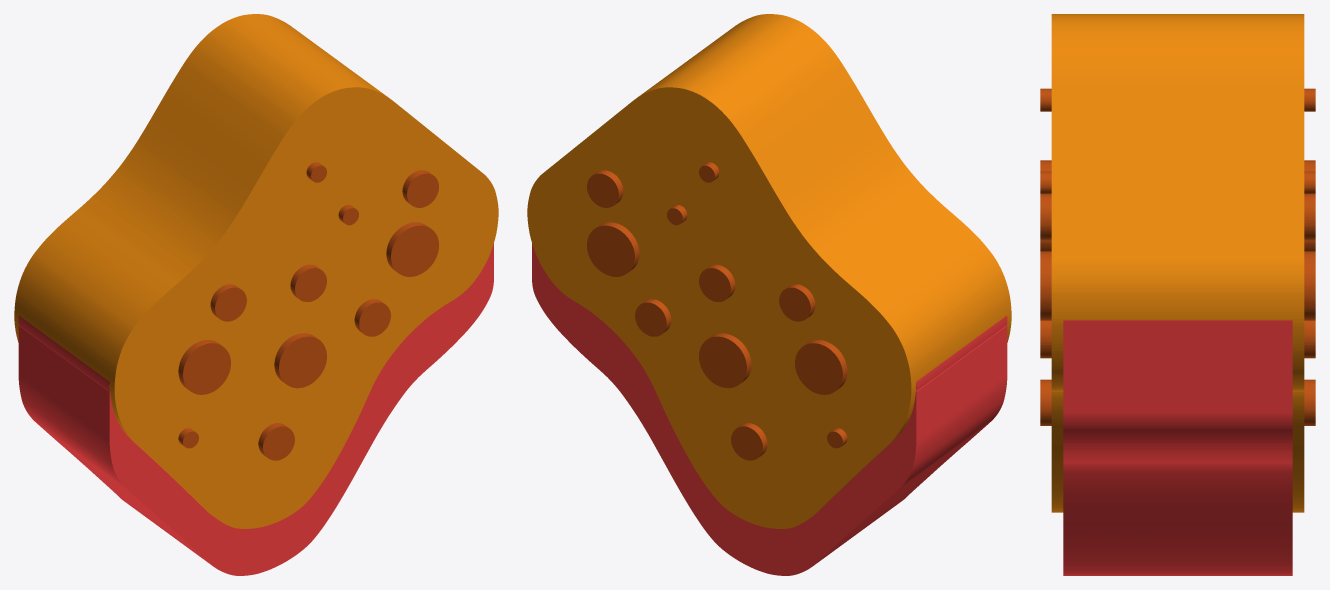
3 views of the same model, side by side, from view 1: azimuth 30°, elevation 25°; view 2: azimuth 150°, elevation 25°; view 3: azimuth 270°, elevation 25° (orthographic). The views are drawn at different scales.
Visible parts, largest first — view 1: U+1F9FD_layer01_obj00, U+1F9FD_layer00_obj00, U+1F9FD_layer02_obj00; view 2: U+1F9FD_layer01_obj00, U+1F9FD_layer00_obj00, U+1F9FD_layer02_obj00; view 3: U+1F9FD_layer01_obj00, U+1F9FD_layer00_obj00, U+1F9FD_layer02_obj00.
Part boxes in pixels (x1,y1,x2,y2): U+1F9FD_layer01_obj00: (14,14,498,528); U+1F9FD_layer00_obj00: (18,243,493,575); U+1F9FD_layer02_obj00: (178,162,438,460); U+1F9FD_layer01_obj00: (527,14,1011,528); U+1F9FD_layer00_obj00: (532,243,1007,575); U+1F9FD_layer02_obj00: (587,162,847,460); U+1F9FD_layer01_obj00: (1051,14,1304,512); U+1F9FD_layer00_obj00: (1063,320,1292,575); U+1F9FD_layer02_obj00: (1040,88,1315,425).
Size of the model in its own units: 0.4871 by 0.5677 by 0.24.
